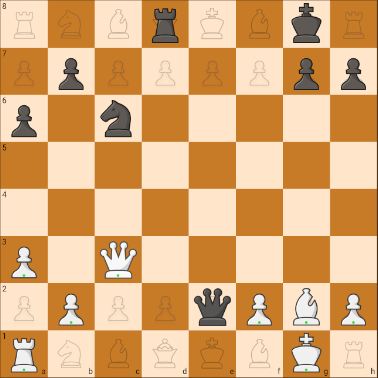bk: (284, 0, 329, 48)
bn: (97, 97, 140, 141)
bp: (51, 52, 90, 91), (3, 100, 43, 138), (287, 52, 325, 92), (335, 50, 370, 92)
bq: (191, 284, 234, 328)
br: (147, 0, 182, 47)
wb: (290, 286, 324, 327)
wk: (288, 331, 328, 375)
wp: (329, 287, 376, 329), (4, 242, 43, 280), (240, 292, 281, 327), (56, 289, 91, 328)
wq: (97, 237, 140, 282)
wr: (1, 331, 47, 377)
